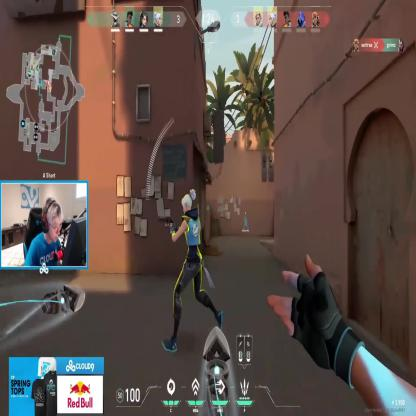enemy: (162, 189, 223, 356)
enemy_head: (181, 190, 197, 215)
